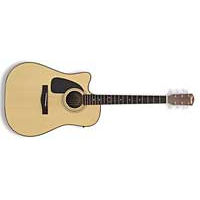guitar: (3, 61, 195, 139)
